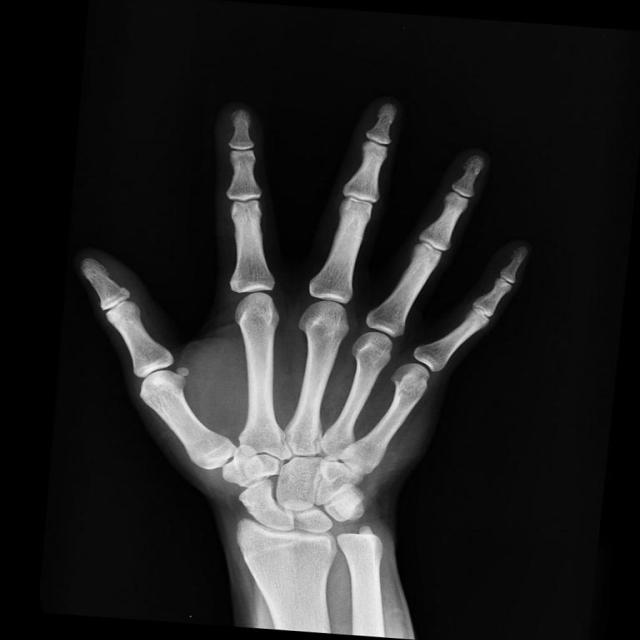Oblique Displaced: (238, 533, 318, 568)
